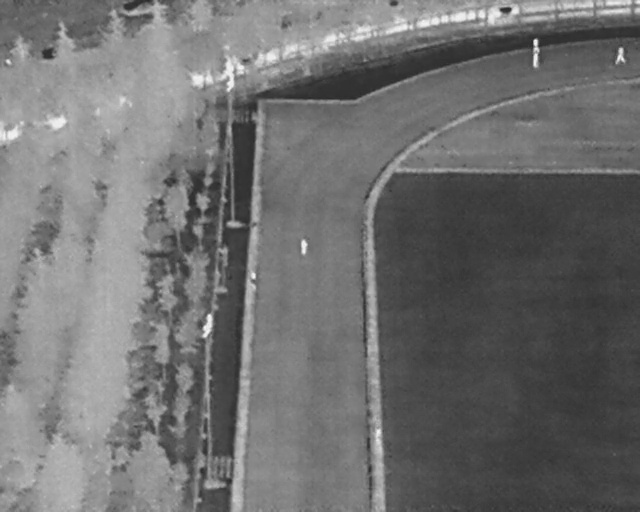Person: (615, 44, 626, 65), (374, 425, 383, 446), (299, 236, 308, 257), (249, 270, 258, 290), (532, 36, 539, 54), (533, 50, 539, 68)
